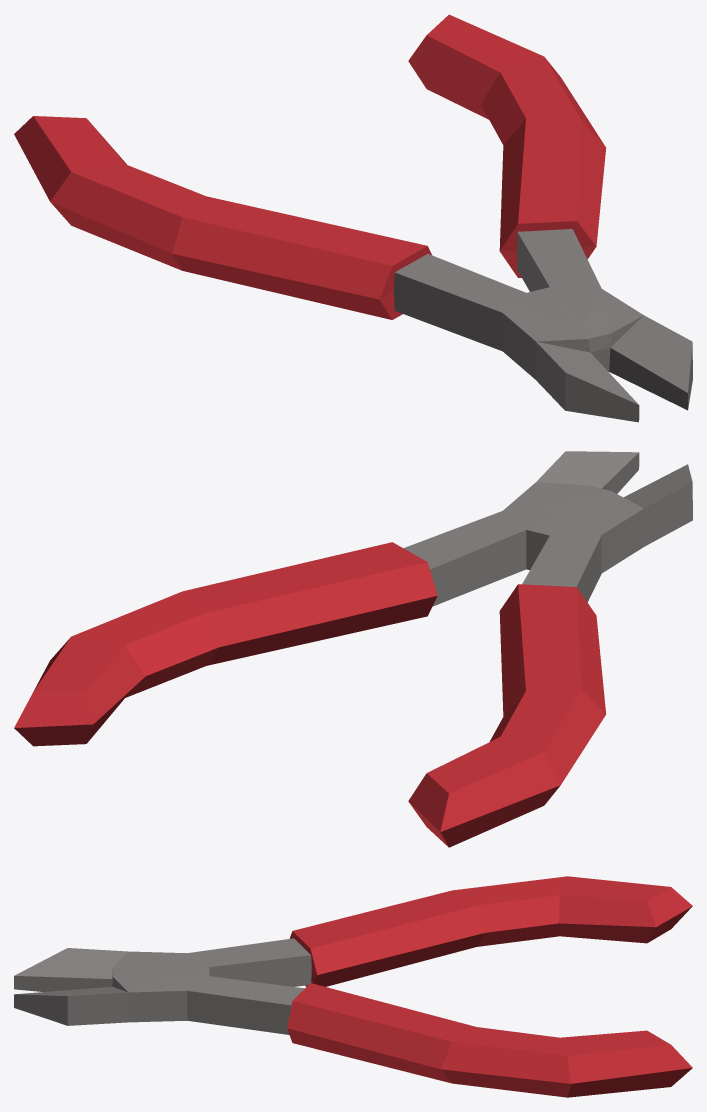
Rendered from tools_wire-cutters.fbx.
The picture shows the model from 3 angles, top to bottom: view 1: azimuth 30°, elevation 25°; view 2: azimuth 150°, elevation 25°; view 3: azimuth 270°, elevation 25°; orthographic projection. The views are drawn at different scales.
Parts seen in each view (by area): view 1: tools_wire_cutters; view 2: tools_wire_cutters; view 3: tools_wire_cutters.
Boxes of the visible parts, bbox=[...] form: tools_wire_cutters: bbox=[14, 14, 692, 422]; tools_wire_cutters: bbox=[14, 451, 692, 847]; tools_wire_cutters: bbox=[14, 876, 692, 1097].
Size of the model in its own units: 135 by 13.73 by 200.
